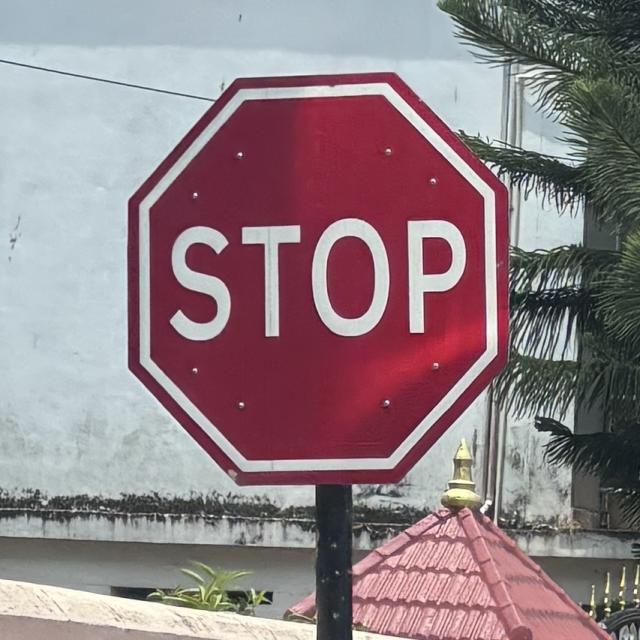STOP: (125, 64, 518, 491)
